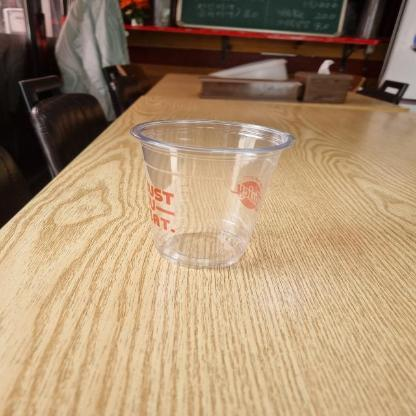Plastic Cup: (125, 117, 299, 275)
